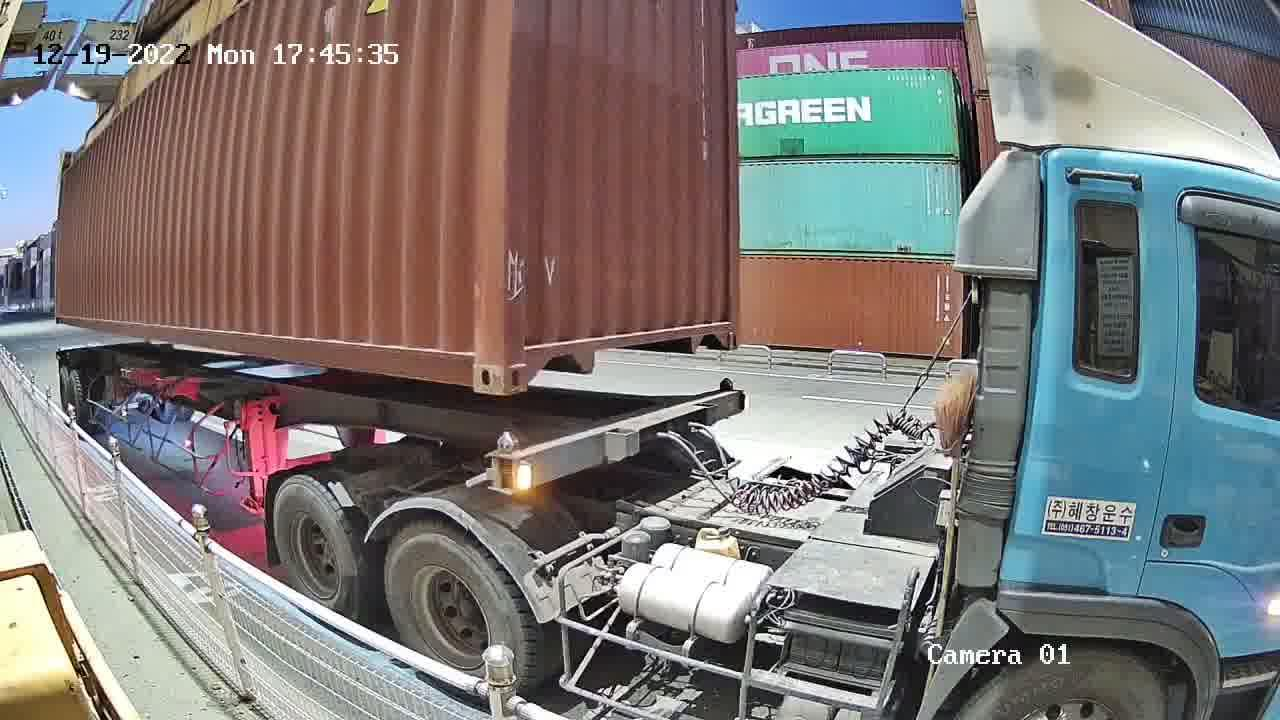Chassis: (489, 389, 742, 492)
Cone: (486, 432, 514, 486), (711, 372, 736, 395)
Hole_L: (505, 323, 553, 393)
Hole_R: (443, 323, 503, 393), (703, 305, 742, 350)
Tire: (383, 525, 523, 678), (275, 476, 357, 614)
